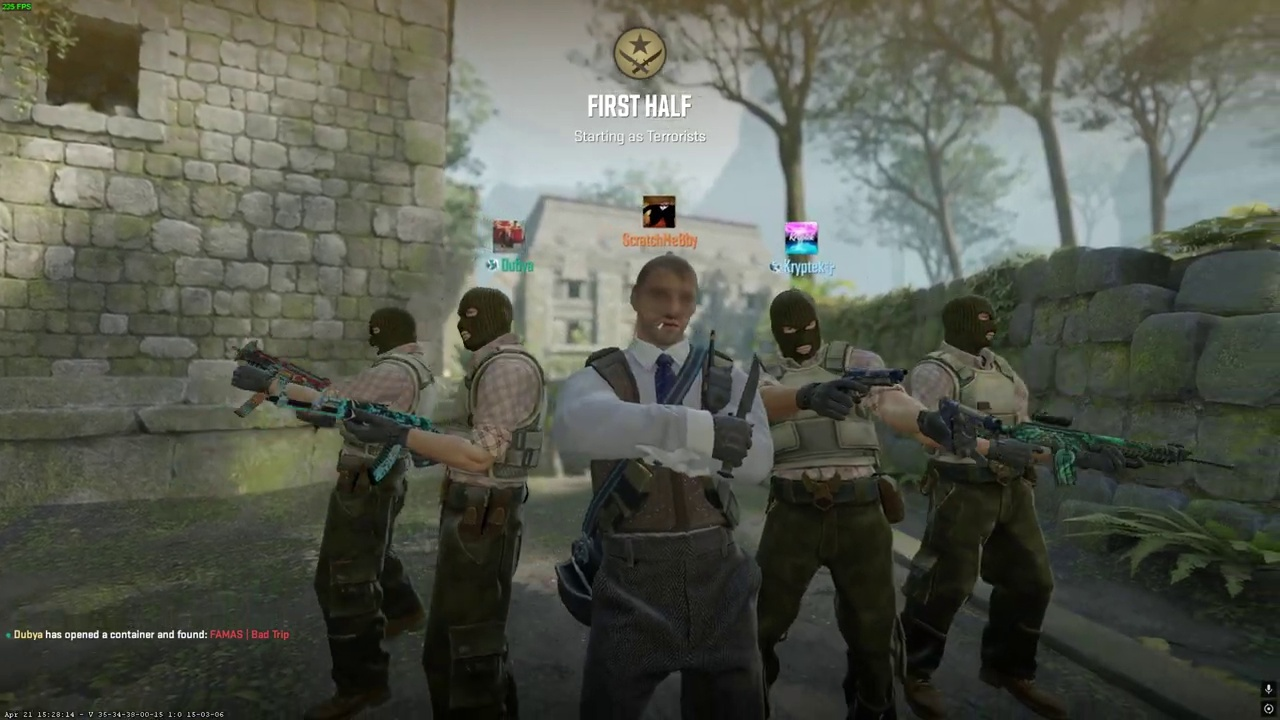Terrorist: (554, 253, 774, 720), (905, 295, 1068, 720), (402, 287, 548, 720), (758, 289, 904, 719), (289, 307, 438, 720)
